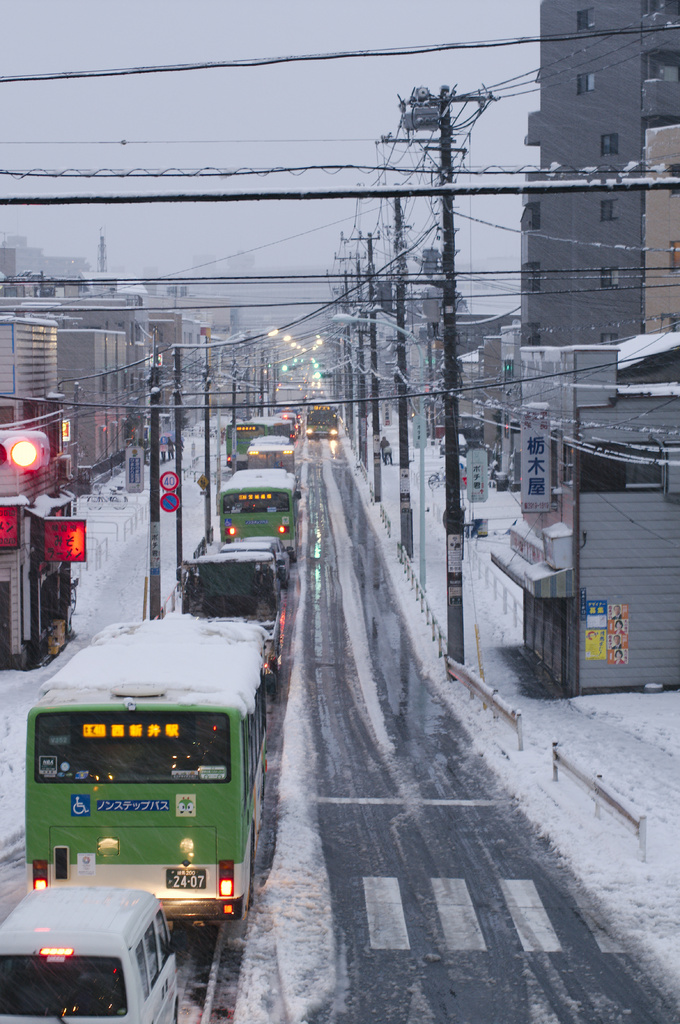Bus: (24, 613, 268, 931), (214, 467, 292, 549), (221, 420, 257, 469)
